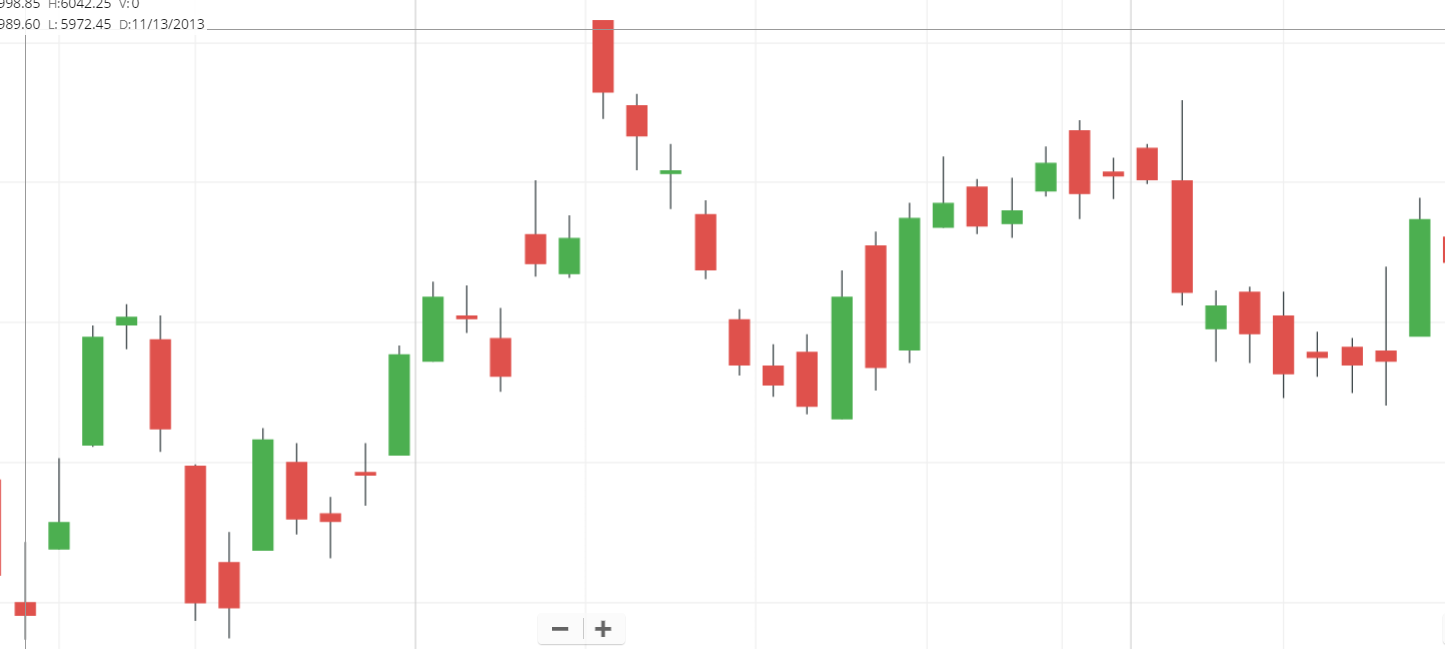doji: (1368, 260, 1405, 408), (309, 489, 351, 563), (450, 278, 482, 340)
